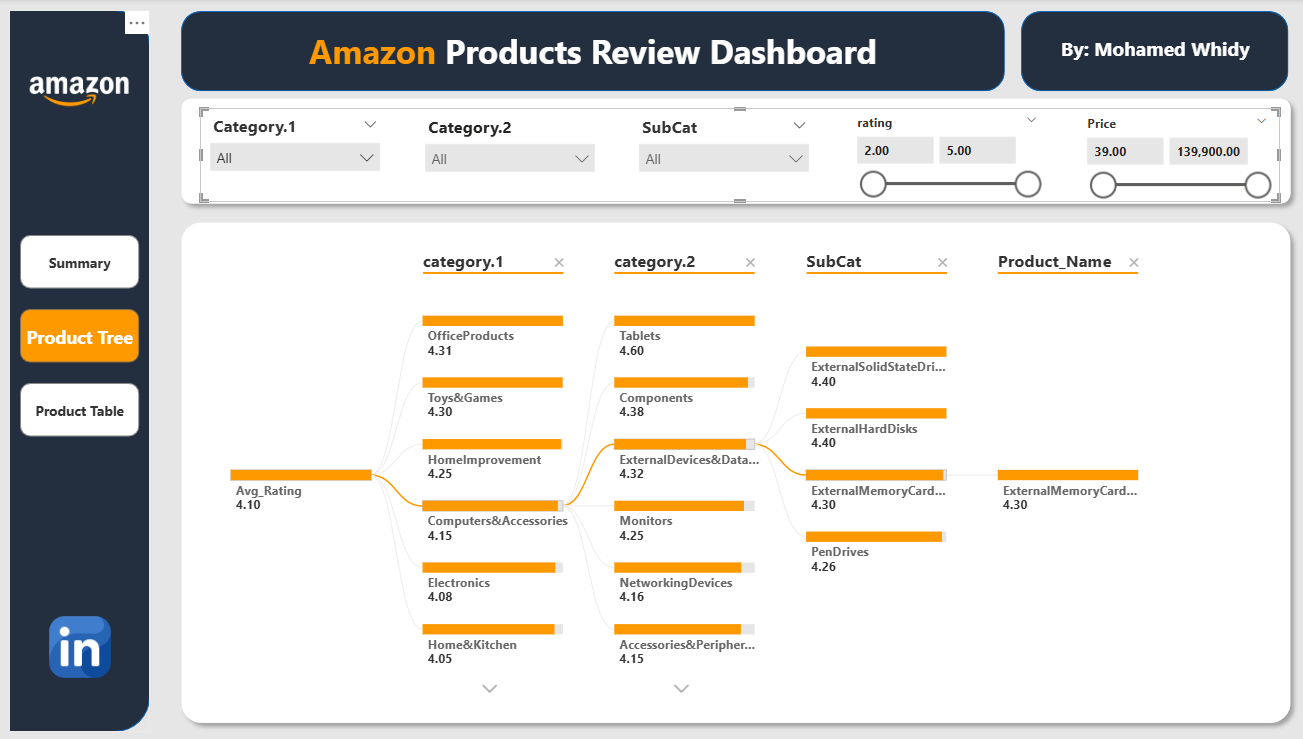

This screenshot's page, from the dashboard's own definition file:
{"tool":"powerbi","page":{"name":"Product Tree","canvas":[1280,720],"ordinal":1},"visuals":[{"type":"shape","box":[12.6,10.7,137.1,702.2],"z":0},{"type":"shape","box":[179.9,11.7,801.4,78],"z":1000,"group":"g1"},{"type":"image","box":[13,39,137,98],"z":1000},{"type":"shape","box":[997,11.7,260.1,78],"z":2000,"group":"g2"},{"type":"group","id":"g1","title":"Group 3","box":[179.9,11.7,801.5,77.8],"z":3000},{"type":"shape","box":[171.2,87.5,1097.1,120.6],"z":3000},{"type":"group","id":"g2","title":"Group 4","box":[997,11.7,259.7,77.8],"z":4000},{"type":"shape","box":[171,208,1097,505],"z":4000,"group":"g3"},{"type":"textbox","box":[280.1,23.7,601.1,54],"z":5000,"group":"g1"},{"type":"image","box":[46,595,72,70],"z":5000},{"type":"pageNavigator","box":[23.3,229.5,116.7,196.5],"z":6000},{"type":"textbox","box":[1015.2,29.7,224.6,42],"z":7000,"group":"g2"},{"type":"slicer","fields":{"Values":["AmazonData.category.1"]},"box":[198.4,107,184.8,90.5],"z":8000,"group":"g4"},{"type":"slicer","fields":{"Values":["AmazonData.category.2"]},"box":[407.1,108,185,89],"z":9000,"group":"g4"},{"type":"slicer","fields":{"Values":["AmazonData.SubCat"]},"box":[616,107.5,185,89],"z":10000,"group":"g4"},{"type":"slicer","fields":{"Values":["AmazonData.rating"]},"box":[824.9,106,200,90],"z":11000,"group":"g4"},{"type":"slicer","fields":{"Values":["AmazonData.actual_price.1"]},"box":[1048.7,106.5,200,90],"z":12000,"group":"g4"},{"type":"decompositionTreeVisual","fields":{"Analyze":["AmazonData.Avg_Rating"],"ExplainBy":["AmazonData.category.1","AmazonData.category.2","AmazonData.SubCat","AmazonData.Product_Name"]},"box":[198,230,1042,460],"z":13000,"group":"g3"},{"type":"group","id":"g3","title":"Group 1","box":[171,208,1097,505],"z":14001},{"type":"group","id":"g4","title":"Group 2","box":[198.4,106,1050.3,91.5],"z":14002}]}

Visuals, with their boxes on the page's 1280x720 design canvas (x1, y1, x2, y2). These are canvas units, not pixel positions in the 1303x739 screenshot, which may show the page scaled, cropped or inside an application window:
shape: (x1=13, y1=11, x2=150, y2=713)
shape: (x1=180, y1=12, x2=981, y2=90)
image: (x1=13, y1=39, x2=150, y2=137)
shape: (x1=997, y1=12, x2=1257, y2=90)
"Group 3" group: (x1=180, y1=12, x2=981, y2=90)
shape: (x1=171, y1=88, x2=1268, y2=208)
"Group 4" group: (x1=997, y1=12, x2=1257, y2=90)
shape: (x1=171, y1=208, x2=1268, y2=713)
textbox: (x1=280, y1=24, x2=881, y2=78)
image: (x1=46, y1=595, x2=118, y2=665)
pageNavigator: (x1=23, y1=230, x2=140, y2=426)
textbox: (x1=1015, y1=30, x2=1240, y2=72)
slicer - AmazonData.category.1: (x1=198, y1=107, x2=383, y2=198)
slicer - AmazonData.category.2: (x1=407, y1=108, x2=592, y2=197)
slicer - AmazonData.SubCat: (x1=616, y1=108, x2=801, y2=196)
slicer - AmazonData.rating: (x1=825, y1=106, x2=1025, y2=196)
slicer - AmazonData.actual_price.1: (x1=1049, y1=106, x2=1249, y2=196)
decompositionTreeVisual - AmazonData.Avg_Rating x AmazonData.category.1: (x1=198, y1=230, x2=1240, y2=690)
"Group 1" group: (x1=171, y1=208, x2=1268, y2=713)
"Group 2" group: (x1=198, y1=106, x2=1249, y2=198)
